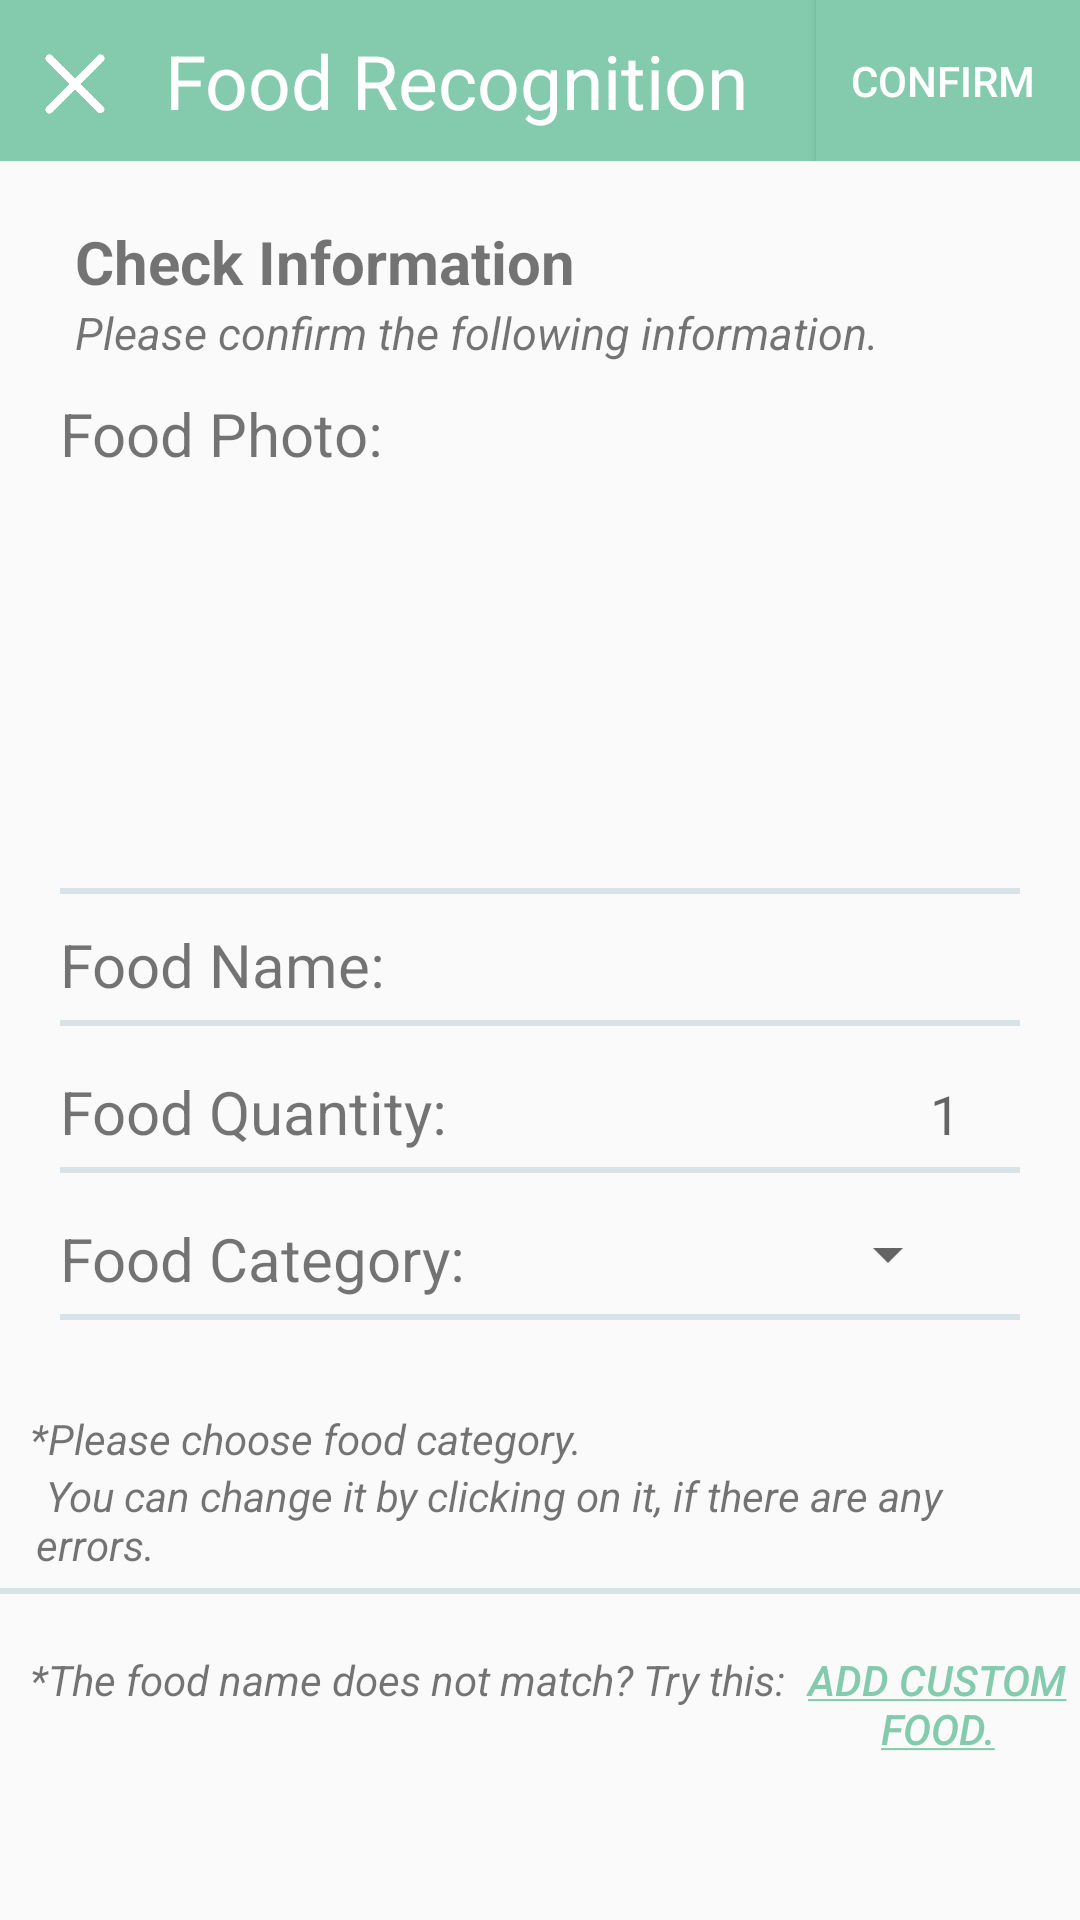

Where icons sit on this 1080px x 1920px app screen, as BBox(x1, y1, x2, y2):
cancel: BBox(45, 54, 105, 114)
